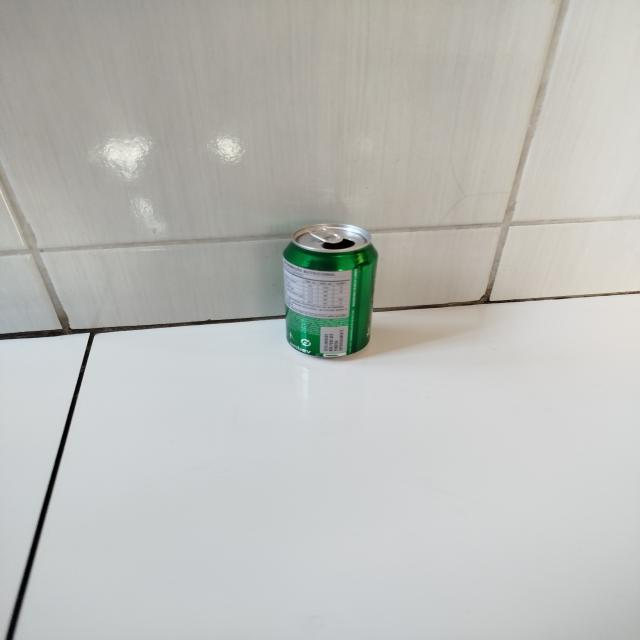Guarana: (284, 222, 378, 357)
